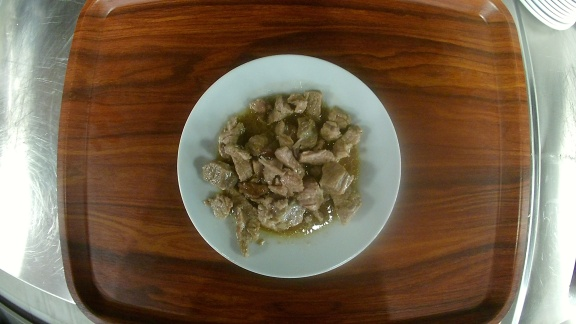etsote: (176, 54, 402, 280)
